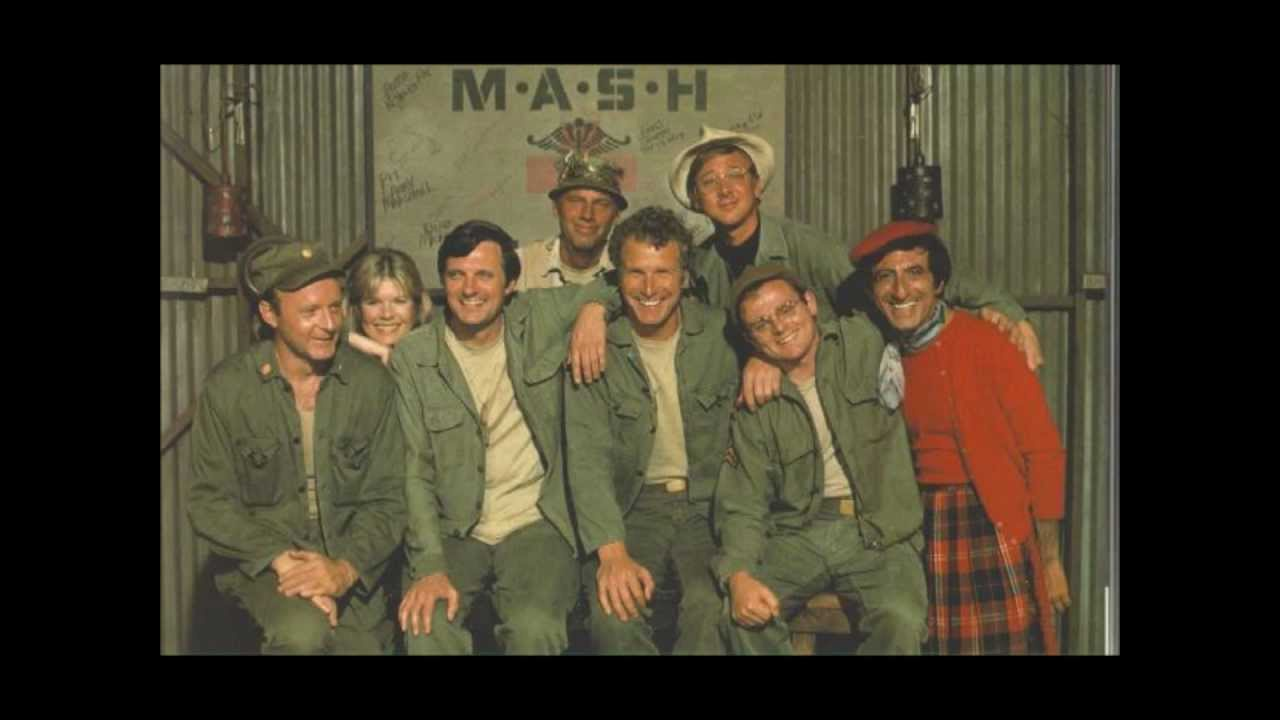bad: (287, 279, 361, 354), (750, 294, 812, 357), (439, 253, 501, 315), (619, 260, 681, 322), (695, 163, 757, 225), (868, 260, 930, 322), (360, 285, 412, 337), (561, 188, 613, 239)
